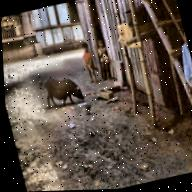boar: (37, 71, 86, 112)
